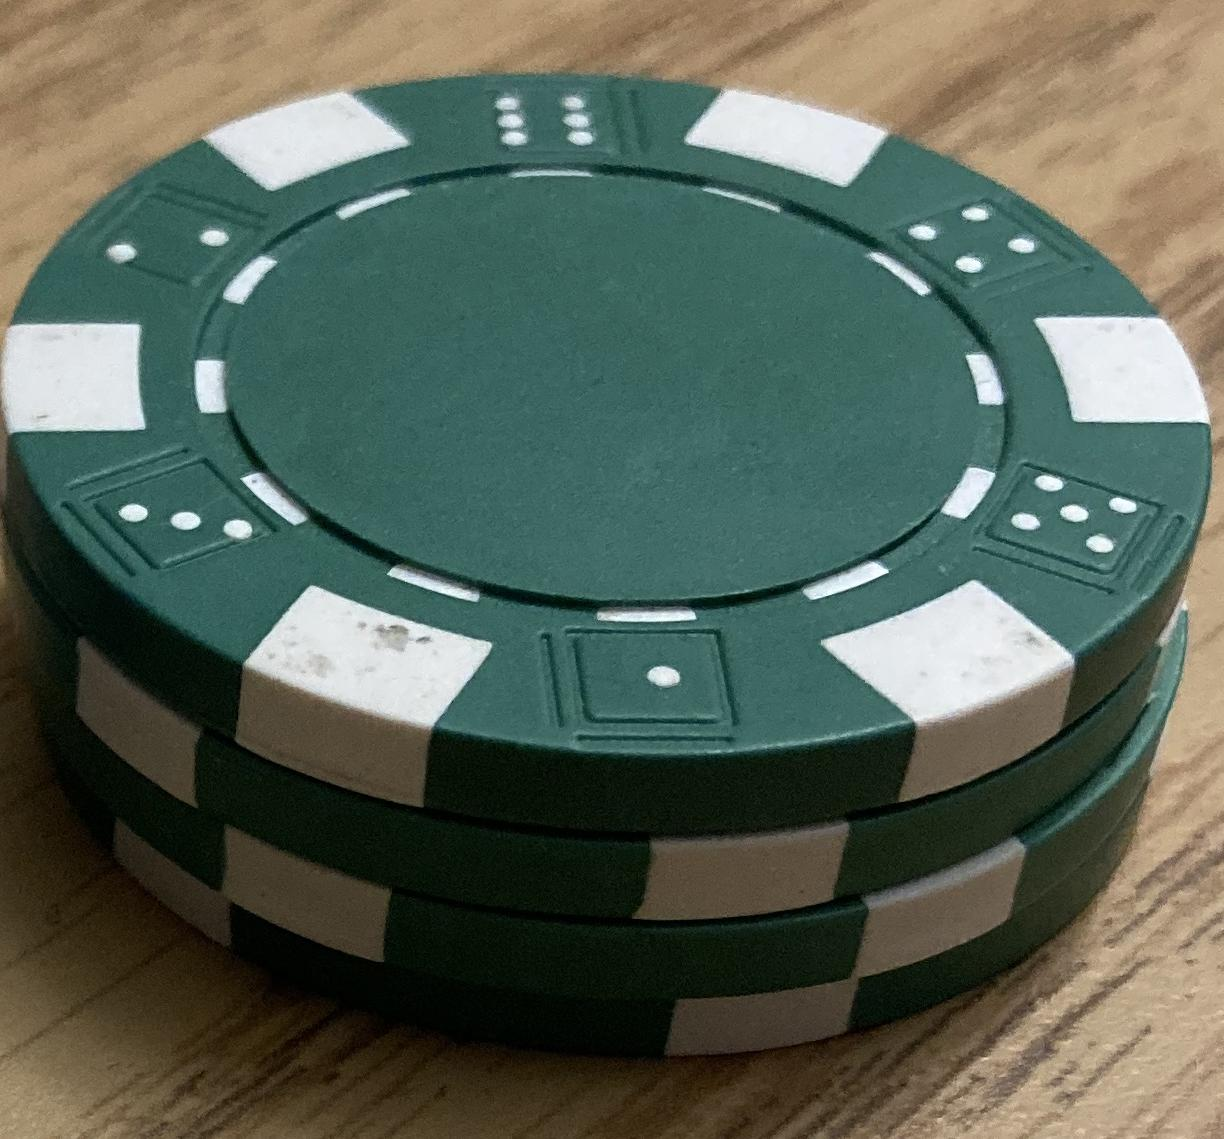Chip: (1, 1, 1224, 1139)
